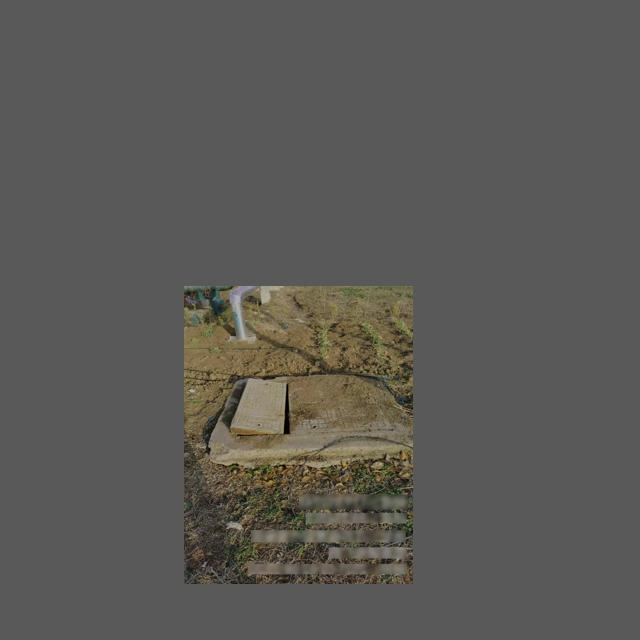uncovered: (230, 375, 395, 438)
